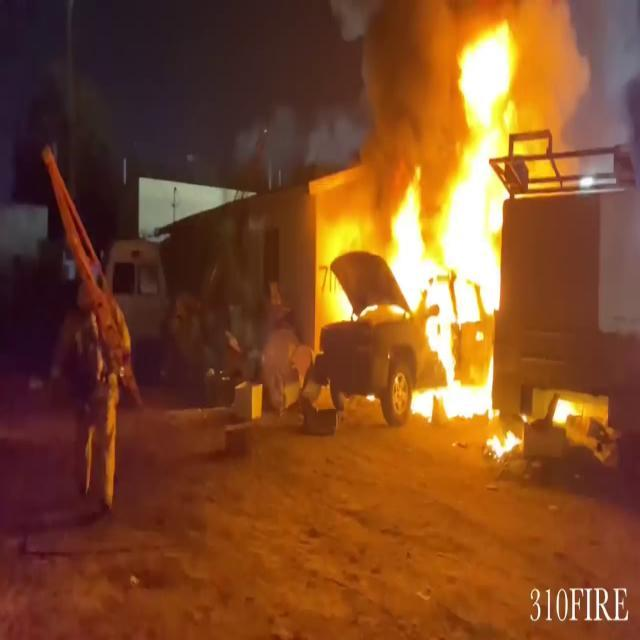Fire: (378, 16, 536, 443)
Smoke: (326, 1, 452, 175)
